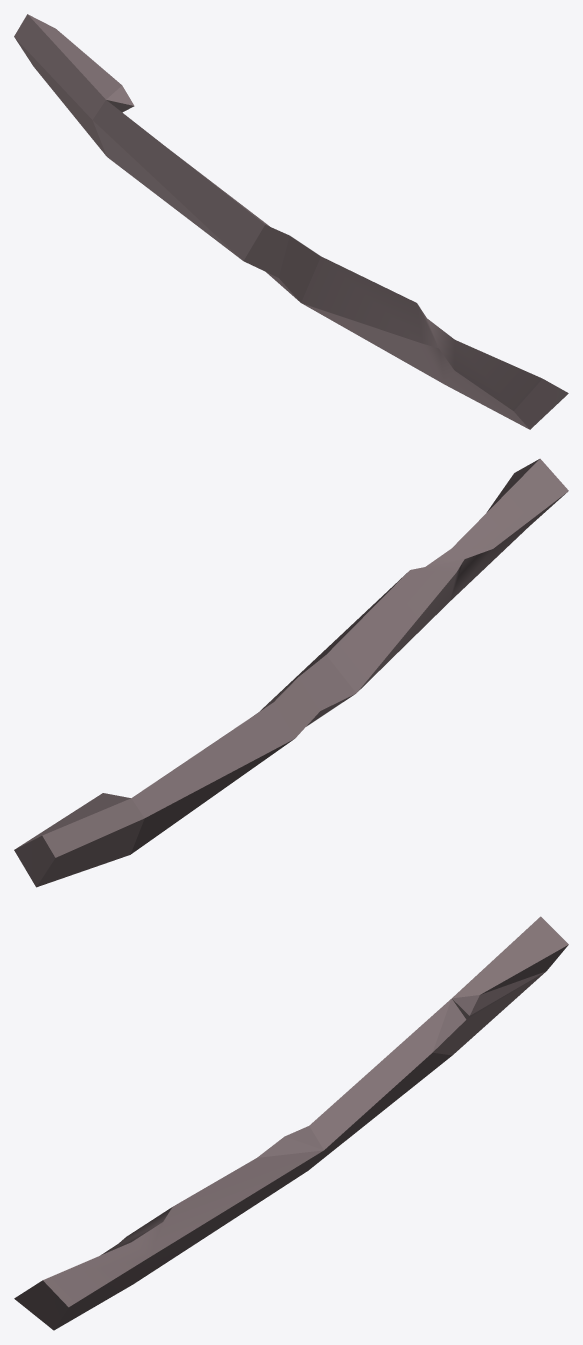
File: SM_L_R_Home_Pillar_Roof.fbx
The picture shows the model from 3 angles, top to bottom: view 1: azimuth 30°, elevation 25°; view 2: azimuth 150°, elevation 25°; view 3: azimuth 330°, elevation 25°; orthographic projection.
Visible parts, largest first — view 1: SM_L_R_Home_pillar_roof; view 2: SM_L_R_Home_pillar_roof; view 3: SM_L_R_Home_pillar_roof.
Boxes of the visible parts, left/top/right/bottom form: SM_L_R_Home_pillar_roof: left=14, top=14, right=568, bottom=429; SM_L_R_Home_pillar_roof: left=14, top=458, right=568, bottom=887; SM_L_R_Home_pillar_roof: left=14, top=916, right=568, bottom=1330.
Bounding box in the file's own units: 0.3326 × 0.5227 × 5.31.
1 material, 1 textured.
